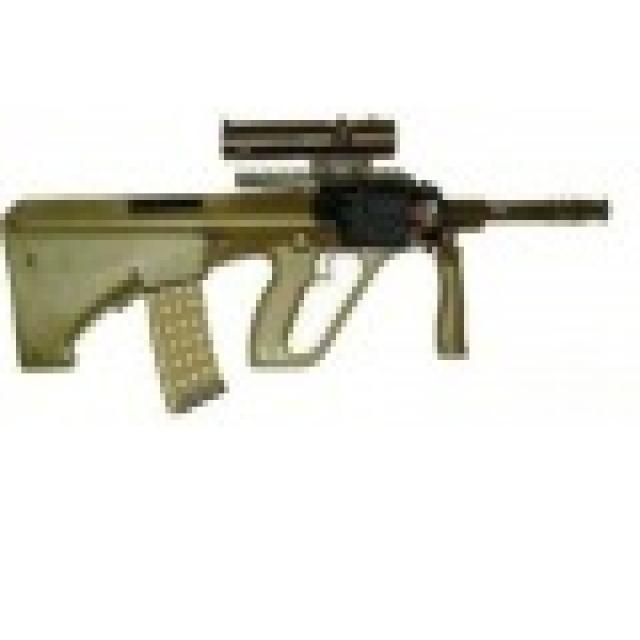Gun: (0, 60, 619, 440)
